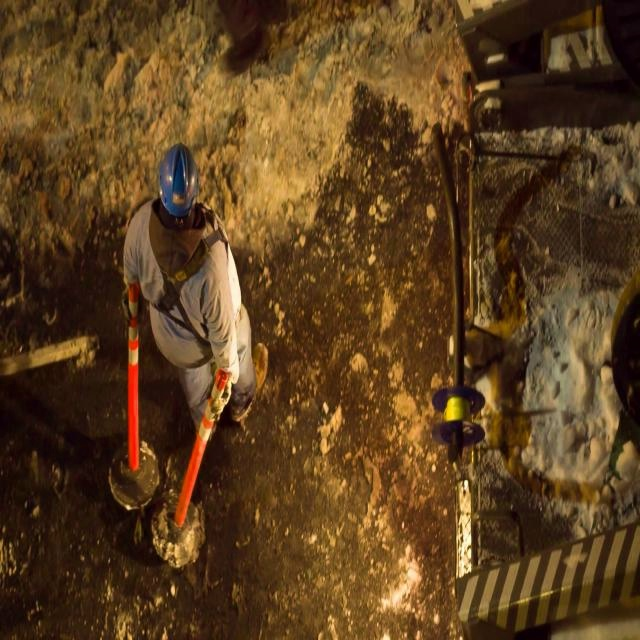Con_Casco: (158, 141, 198, 217)
